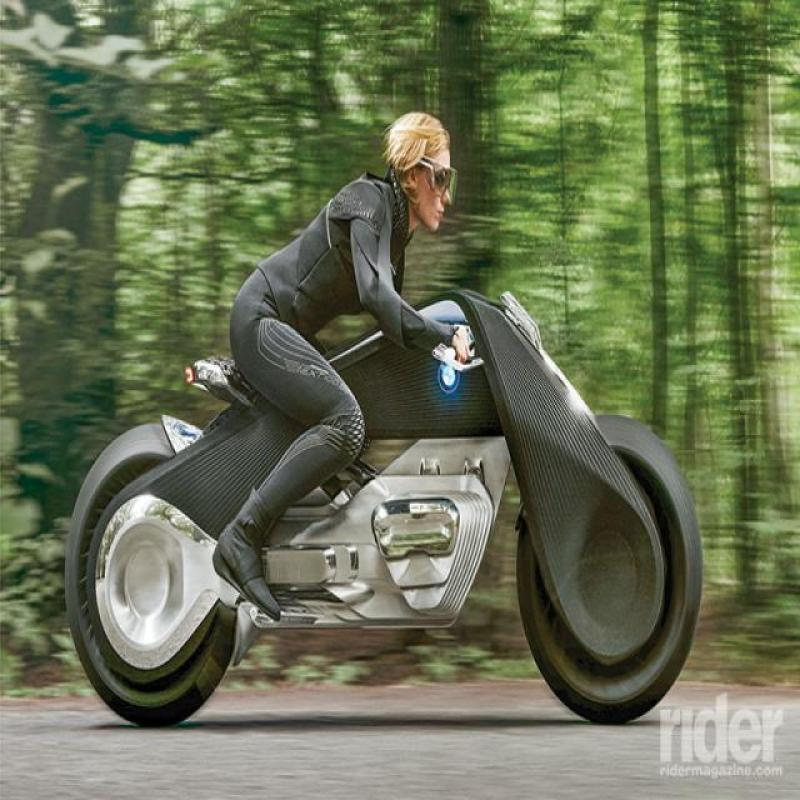nohelmet: (369, 106, 470, 244)
